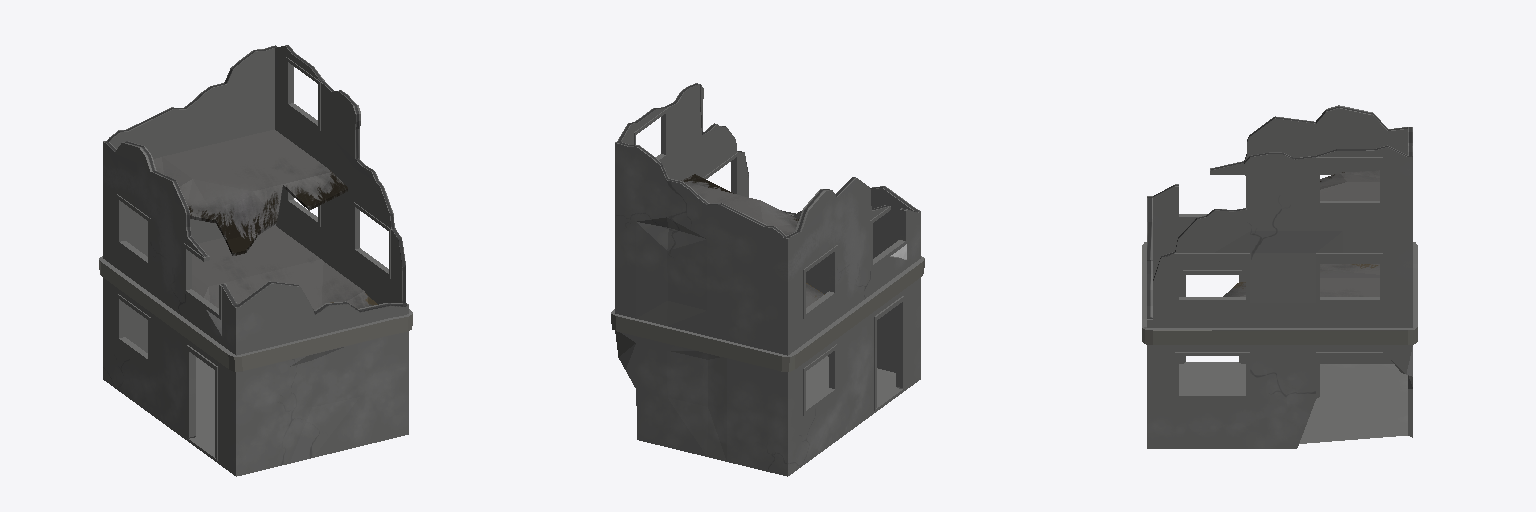
The picture shows the model from 3 angles: view 1: azimuth 30°, elevation 25°; view 2: azimuth 150°, elevation 25°; view 3: azimuth 270°, elevation 25°; orthographic projection.
Parts seen in each view (by area): view 1: gebouw; view 2: gebouw; view 3: gebouw.
Part boxes in pixels (x1,y1,x2,y2): gebouw: (99,45,412,476); gebouw: (611,83,924,476); gebouw: (1142,105,1417,448).
Bounding box in the file's own units: 12.85 × 20.23 × 16.74.
2 materials, 2 textured.